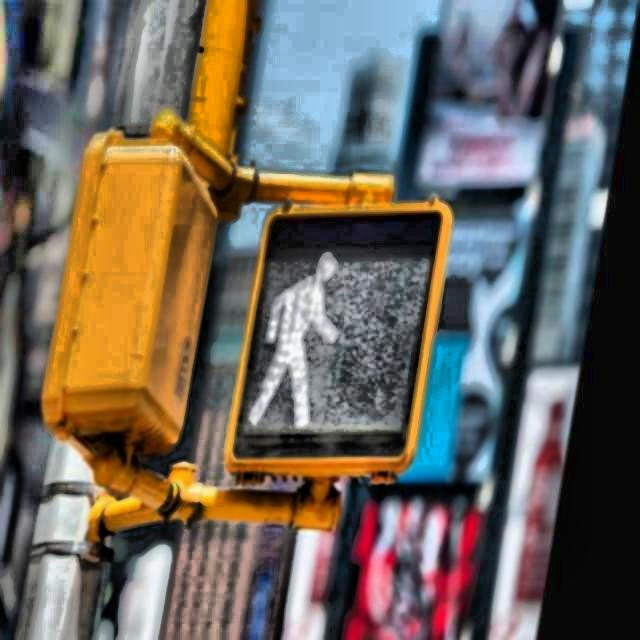semaforo pedestre: (124, 136, 560, 528)
